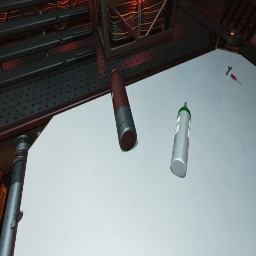0: (171, 101, 191, 177)
NitrogenTank ,: (110, 68, 137, 151)
